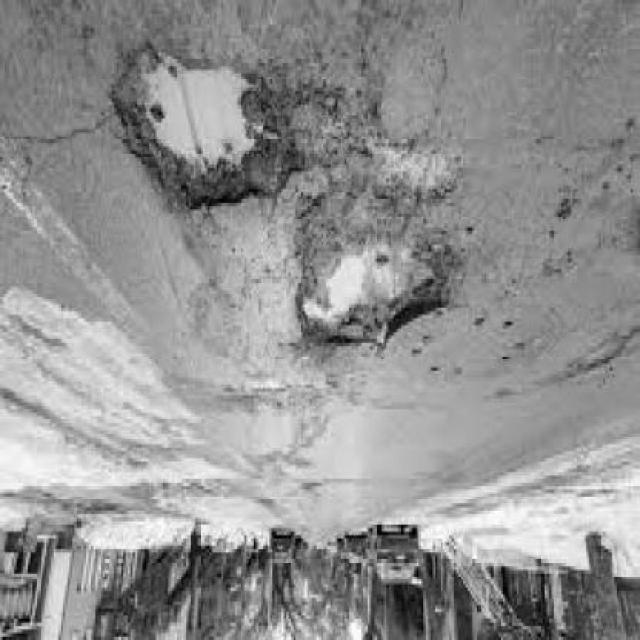pothole: (102, 42, 302, 224), (288, 234, 454, 368)
